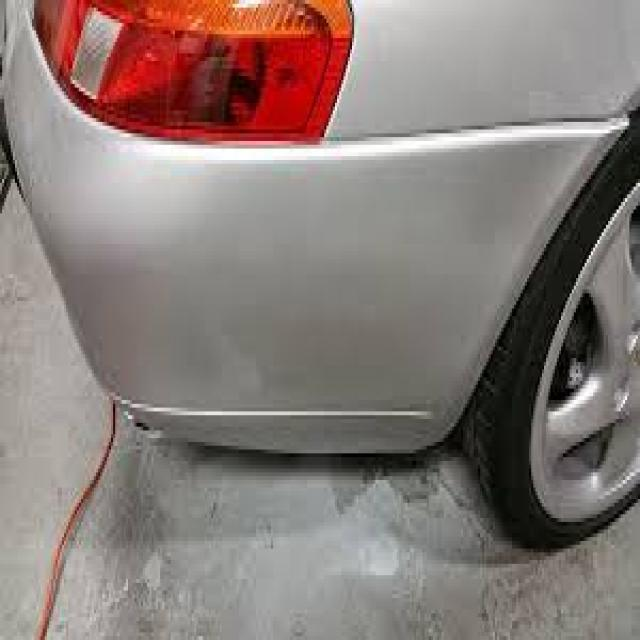minor: (112, 388, 181, 448)
